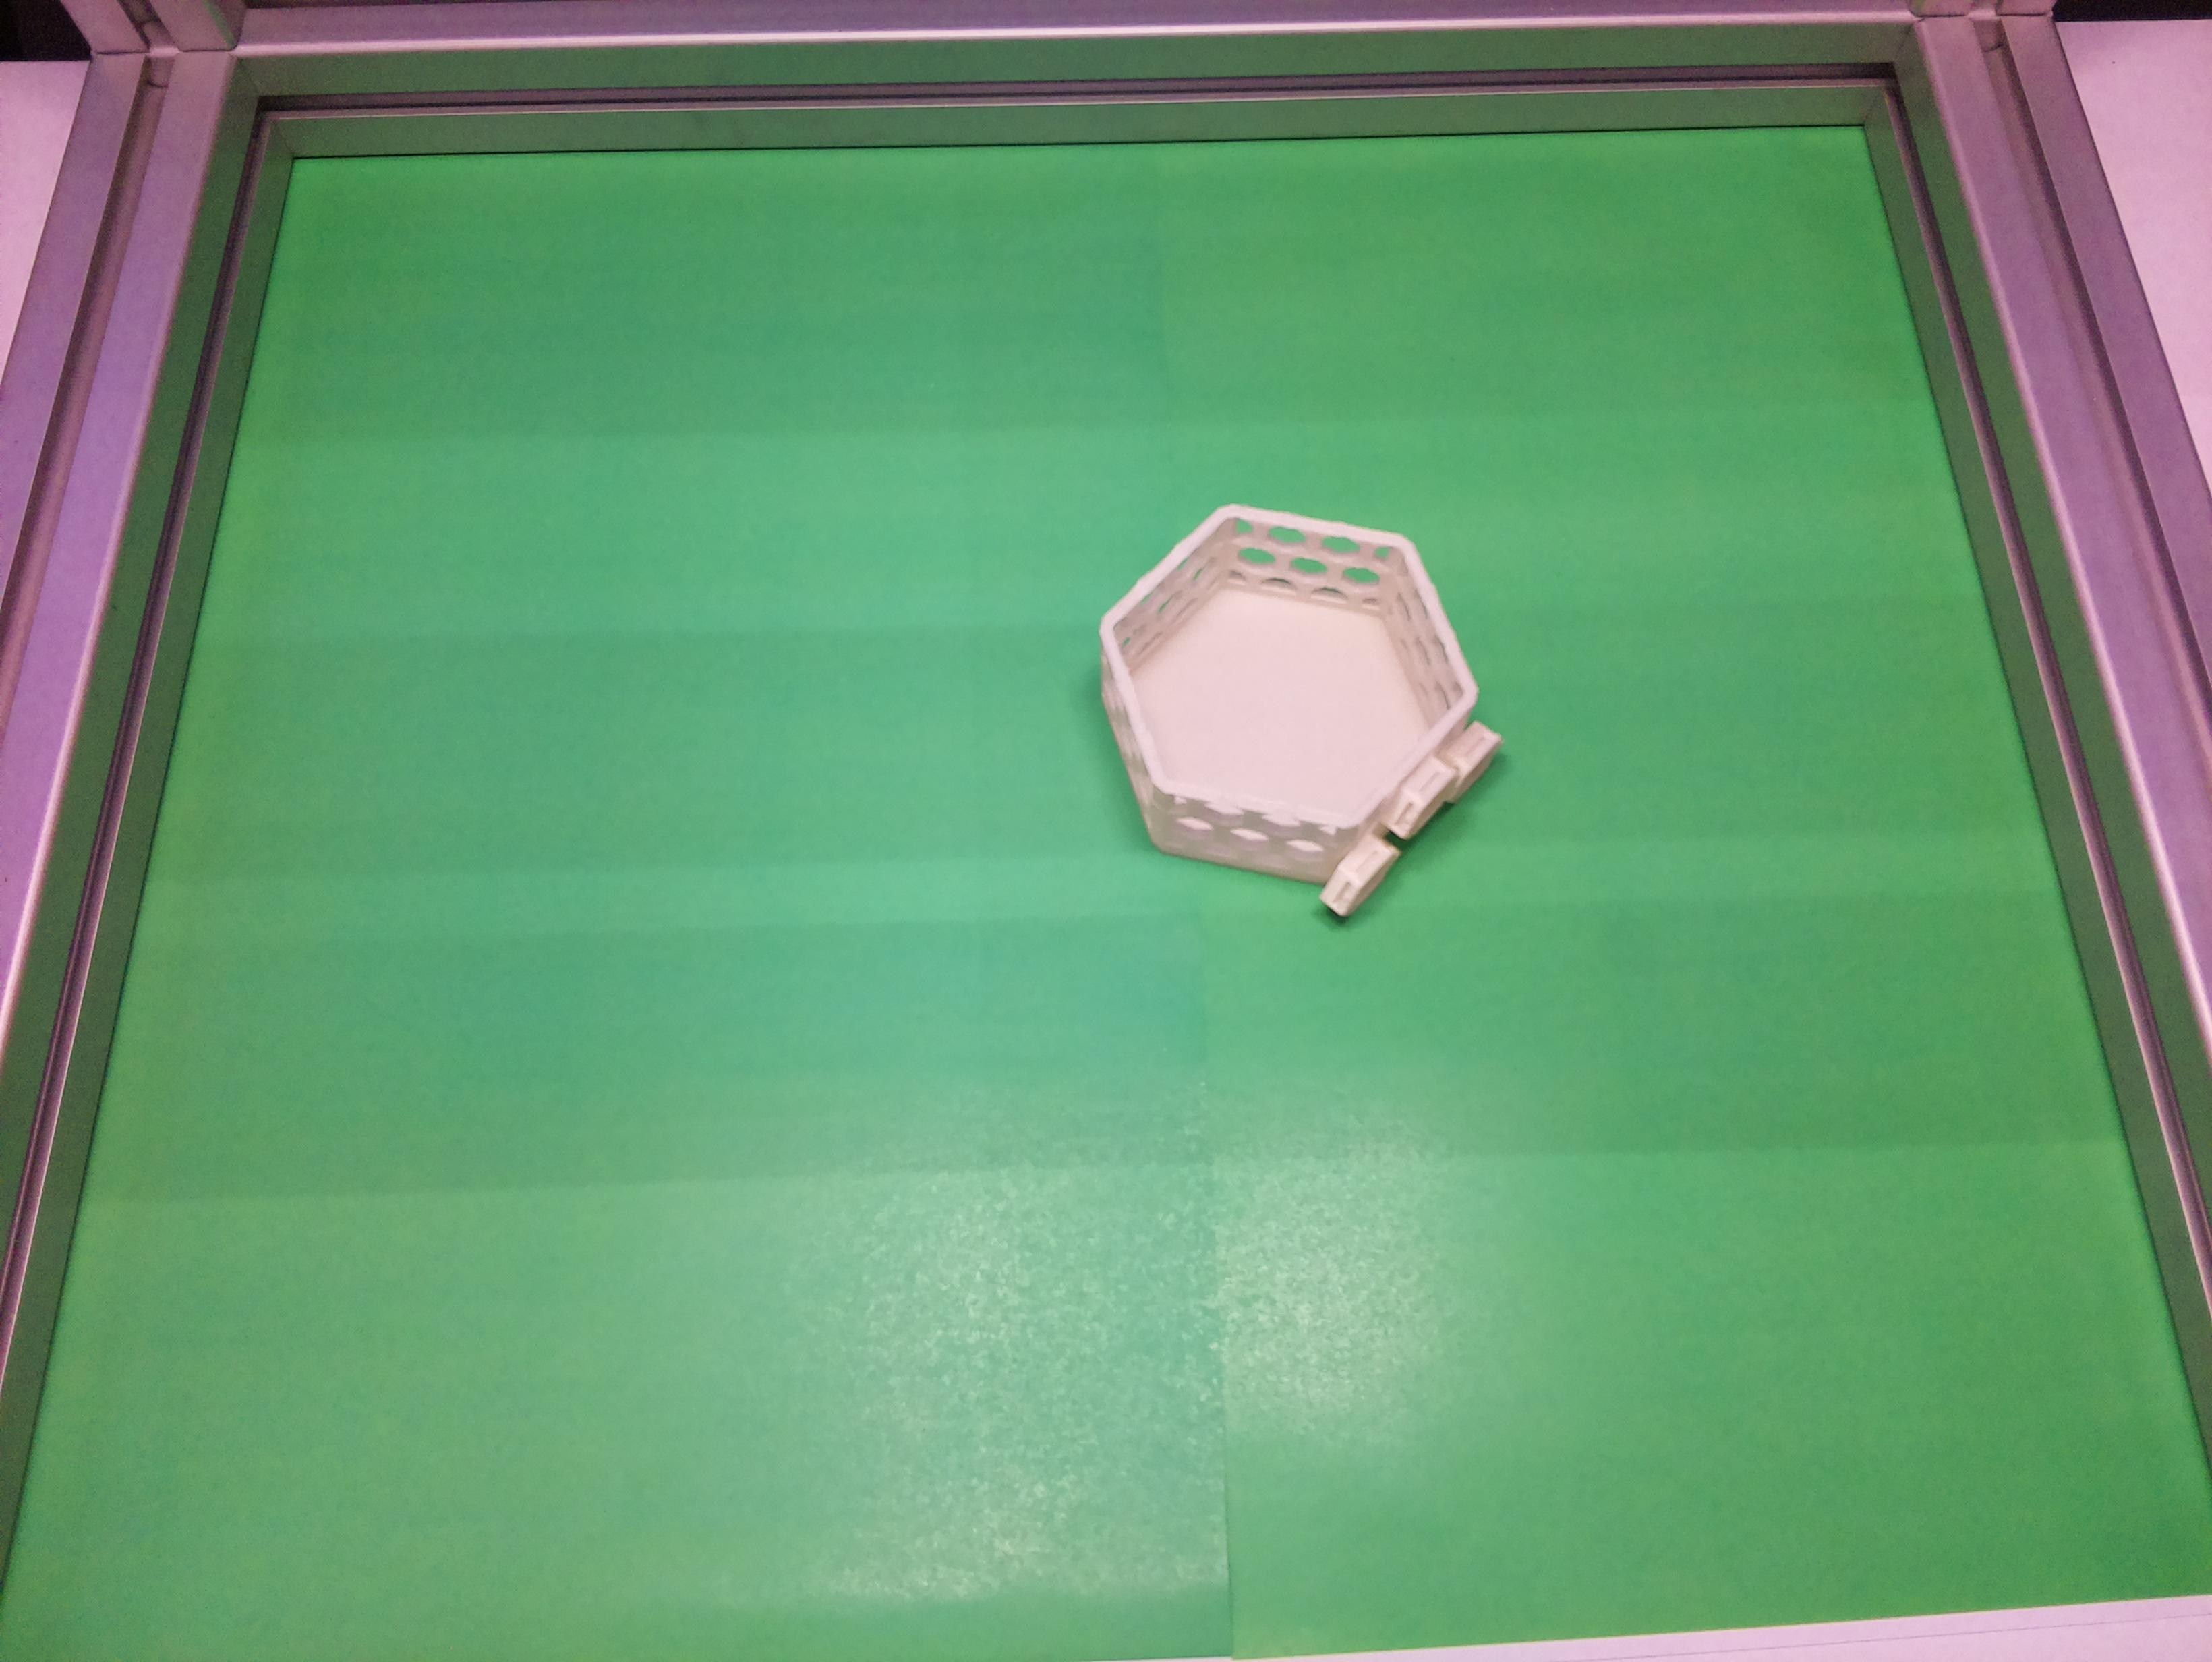bottle_holder: (1014, 422, 1564, 974)
